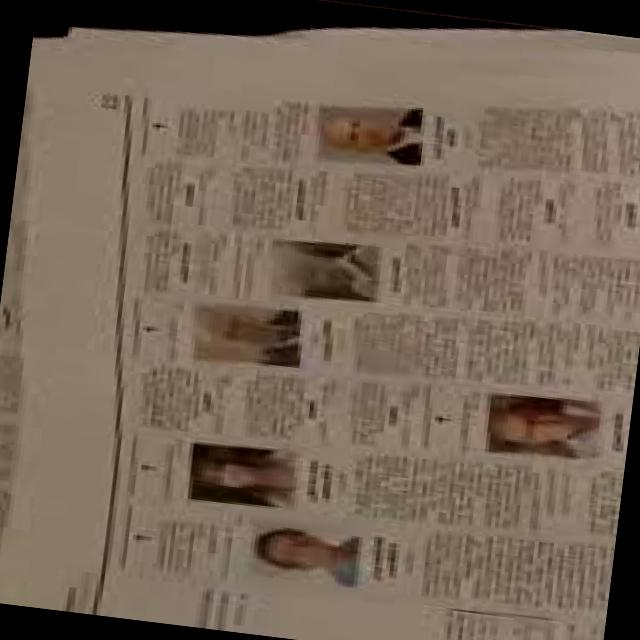paper: (27, 58, 640, 640)
